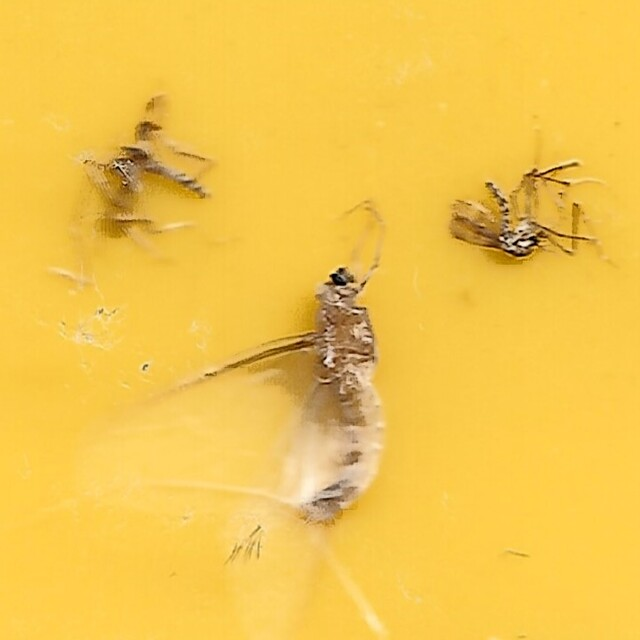Ephemeroptera: (90, 263, 389, 539)
Nematocera: (93, 101, 210, 238), (441, 179, 550, 274)
